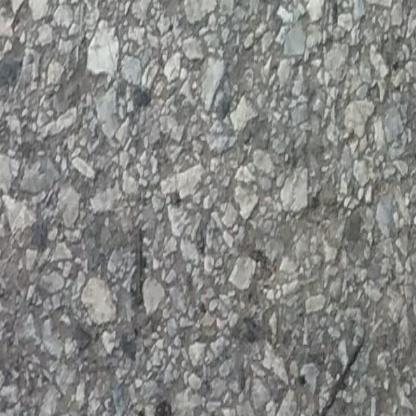Cracks: (308, 330, 372, 416), (137, 400, 209, 416)
